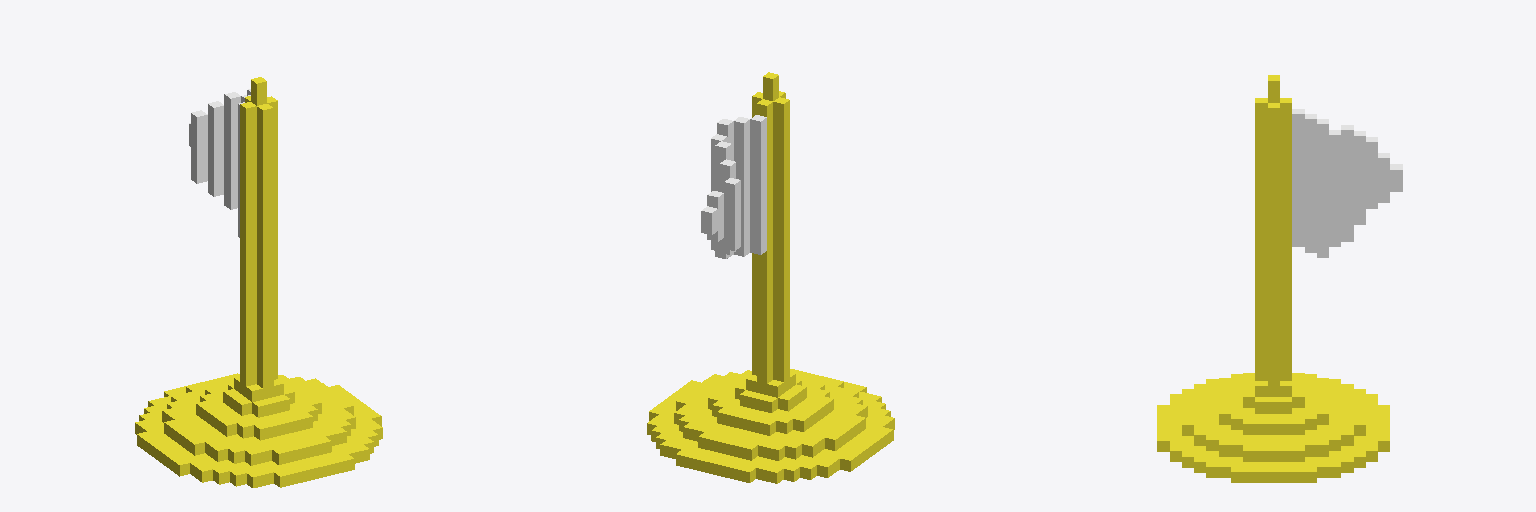
3 views of the same model, side by side, from view 1: azimuth 30°, elevation 25°; view 2: azimuth 150°, elevation 25°; view 3: azimuth 270°, elevation 25° (orthographic).
Bounding box in the file's own units: 19 × 32 × 20.
Materials: 1 (1 with a texture image).